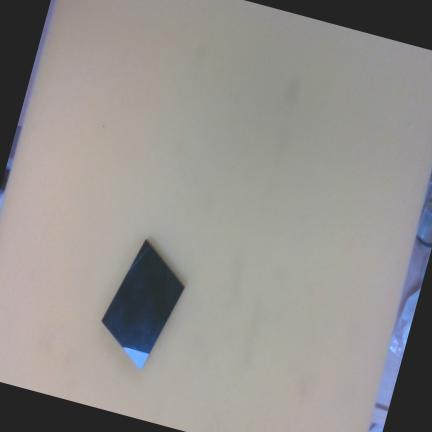tile: (88, 237, 195, 370)
